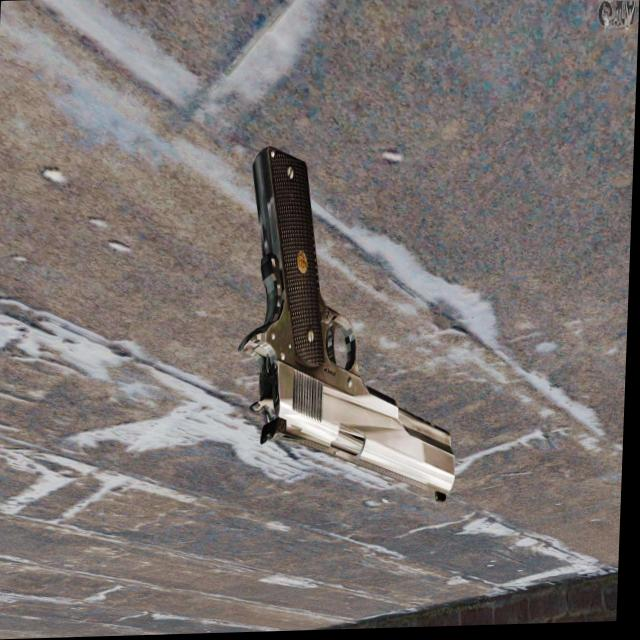handgun: (236, 142, 464, 511)
